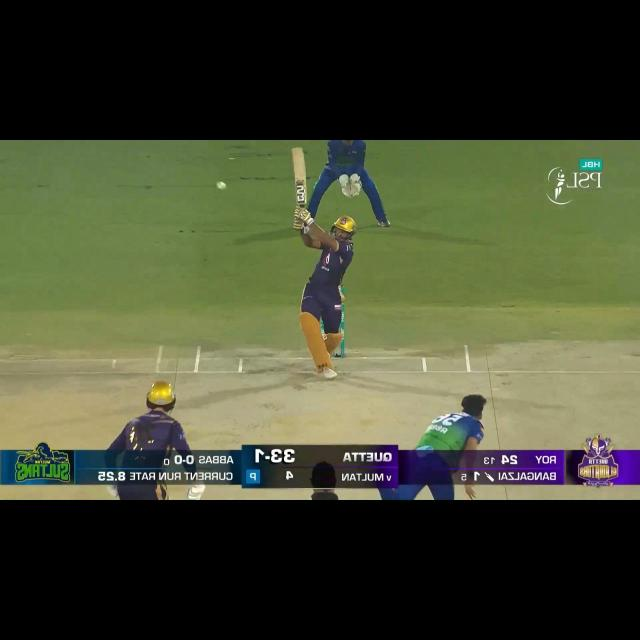bat: (290, 146, 310, 207)
toe: (290, 145, 303, 154)
